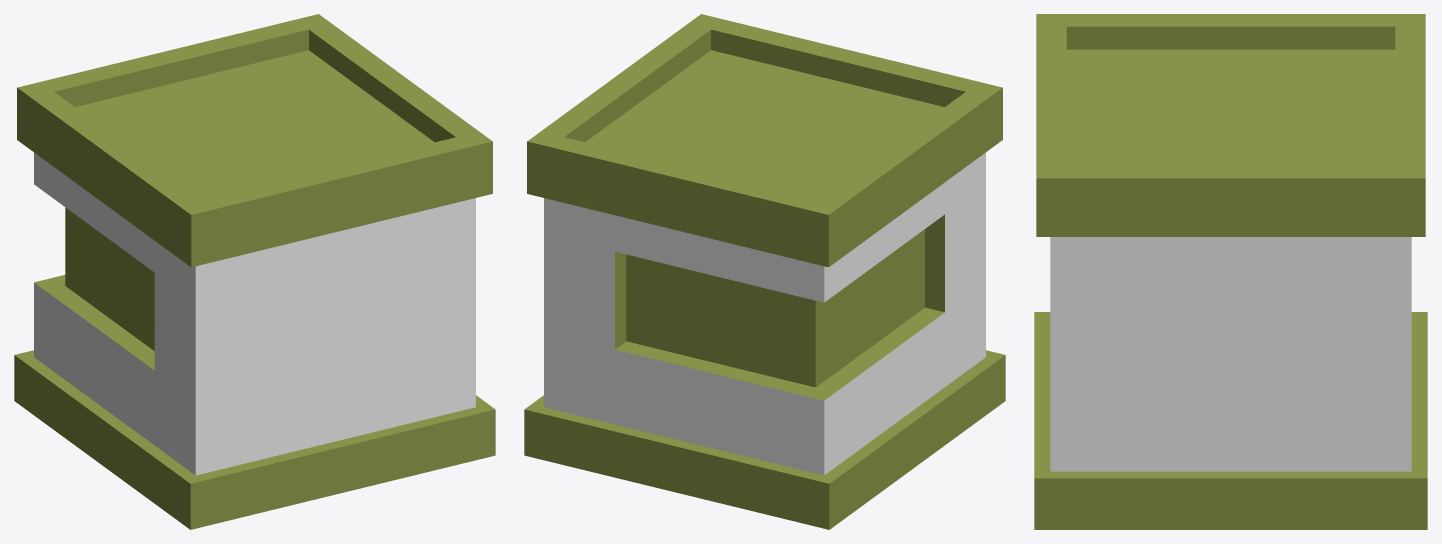
Rendered from Map-House-S-Lv1-G.fbx.
3 views of the same model, side by side, from view 1: azimuth 30°, elevation 25°; view 2: azimuth 150°, elevation 25°; view 3: azimuth 270°, elevation 25° (orthographic). The views are drawn at different scales.
Visible parts, largest first — view 1: Map-House-S-Lv1-G; view 2: Map-House-S-Lv1-G; view 3: Map-House-S-Lv1-G.
Boxes of the visible parts, x1=… form: Map-House-S-Lv1-G: x1=14, y1=14, x2=495, y2=529; Map-House-S-Lv1-G: x1=524, y1=14, x2=1005, y2=529; Map-House-S-Lv1-G: x1=1034, y1=14, x2=1427, y2=529.
Size of the model in its own units: 1.32 by 1.3 by 1.32.
